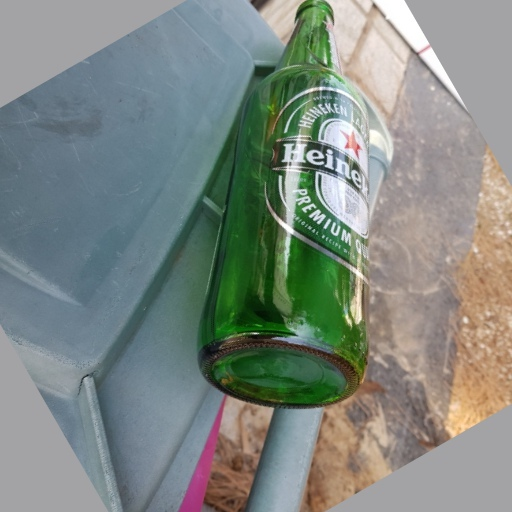Glass_1: (193, 2, 372, 406)
